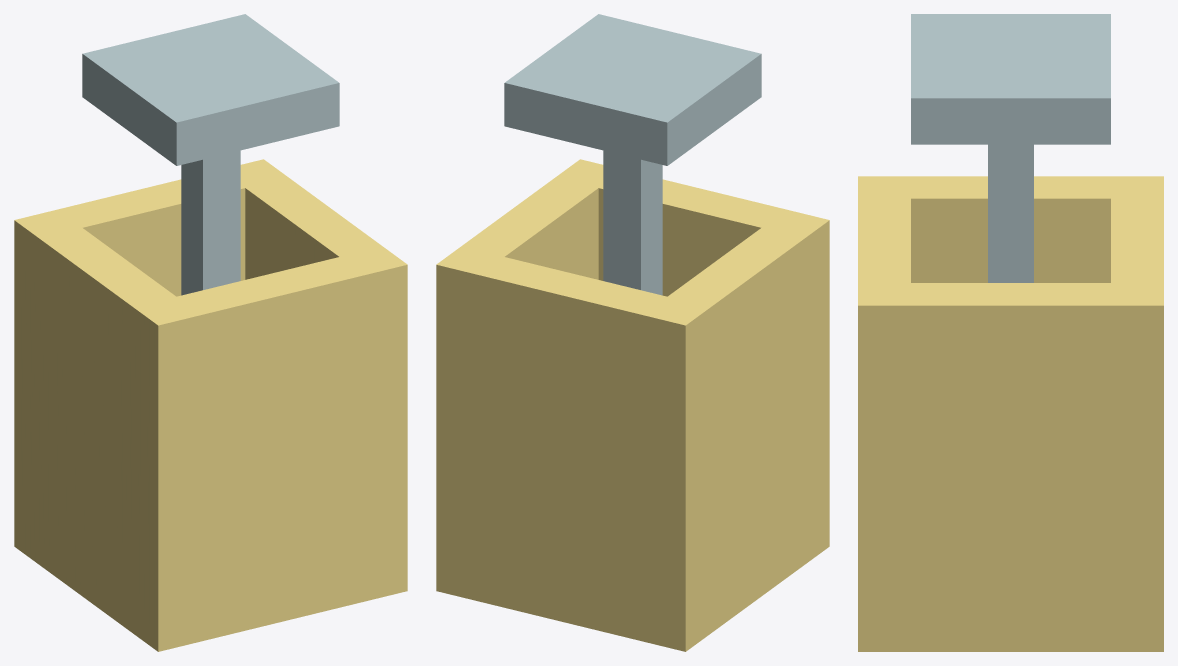
The model's file is Light_Lamp_Square_Ceiling.glb.
3 views of the same model, side by side, from view 1: azimuth 30°, elevation 25°; view 2: azimuth 150°, elevation 25°; view 3: azimuth 270°, elevation 25° (orthographic). The views are drawn at different scales.
Visible parts, largest first — view 1: lampSquareCeiling; view 2: lampSquareCeiling; view 3: lampSquareCeiling.
Part boxes in pixels (bbox=[...]): lampSquareCeiling: bbox=[14, 14, 407, 651]; lampSquareCeiling: bbox=[436, 14, 829, 651]; lampSquareCeiling: bbox=[858, 14, 1163, 651].
Bounding box in the file's own units: 0.12 × 0.23 × 0.12.
